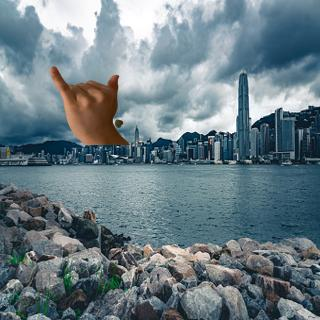HAVE: (46, 59, 128, 138)
